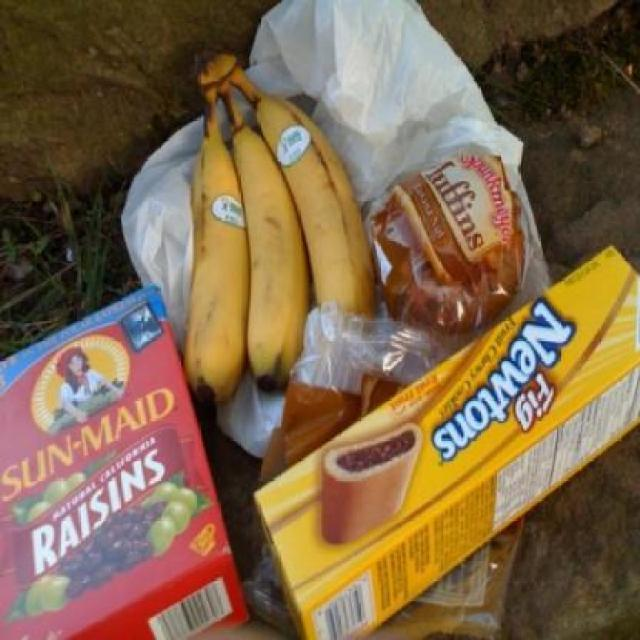Banana: (176, 49, 380, 407)
